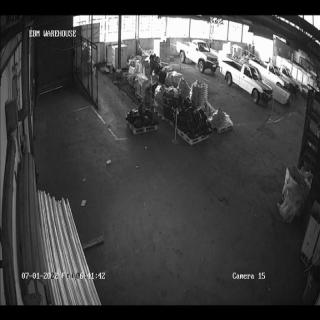car: (216, 58, 274, 105), (176, 40, 219, 72), (249, 59, 289, 89), (277, 65, 300, 91)
